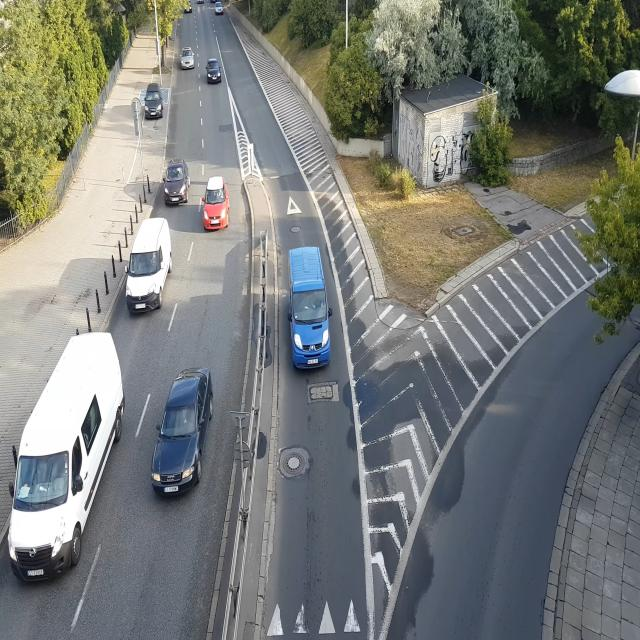car: (7, 330, 126, 589), (151, 373, 213, 495), (282, 246, 336, 374), (125, 220, 170, 316), (202, 176, 231, 230), (162, 160, 190, 207), (143, 88, 165, 119), (206, 59, 222, 81), (181, 50, 197, 70), (215, 4, 225, 15)
